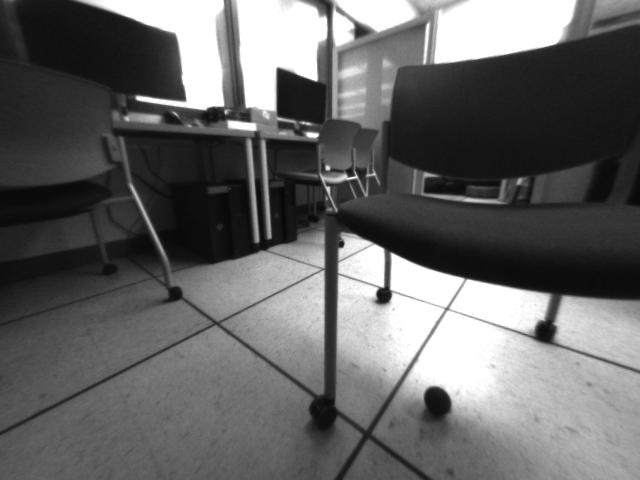dogtoy: (415, 380, 456, 424)
